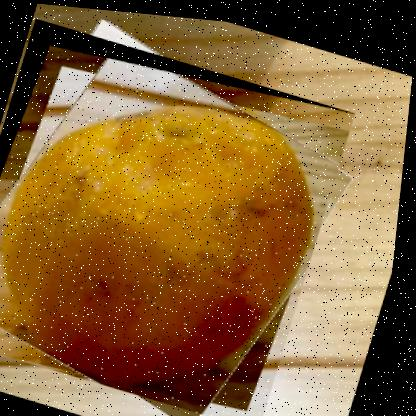orange_rotten: (0, 14, 363, 415)
